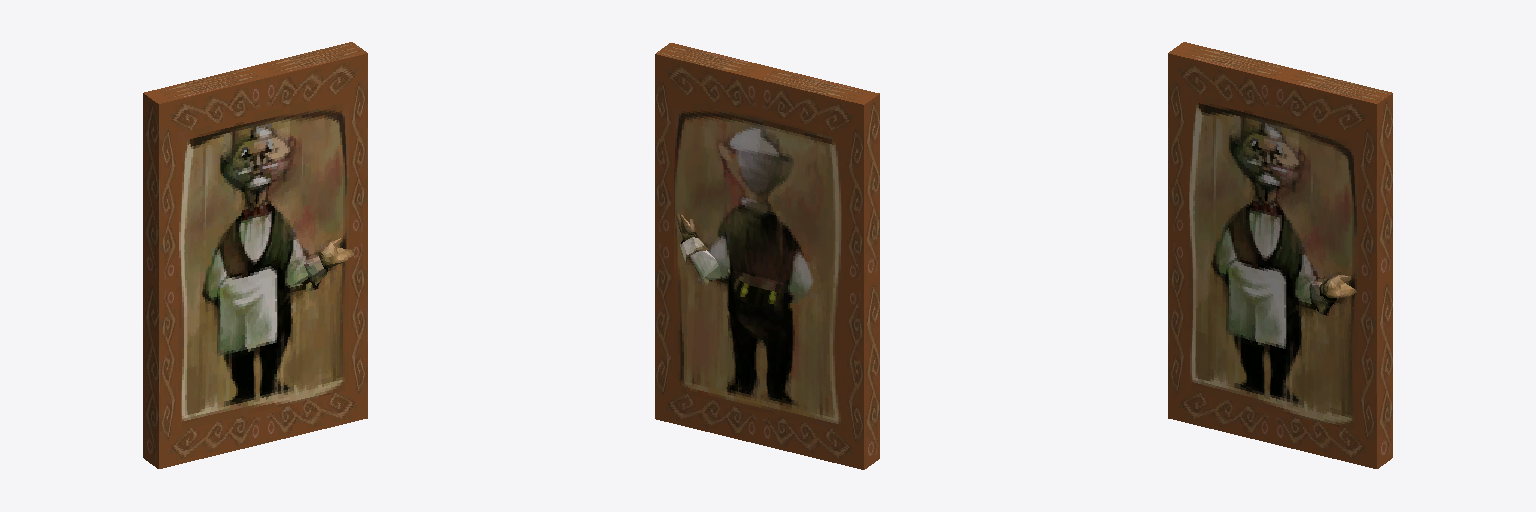
The picture shows the model from 3 angles: view 1: azimuth 30°, elevation 25°; view 2: azimuth 150°, elevation 25°; view 3: azimuth 330°, elevation 25°; orthographic projection.
Parts seen in each view (by area): view 1: door_cabana; view 2: door_cabana; view 3: door_cabana.
Part boxes in pixels (bbox=[...]): door_cabana: bbox=[143, 42, 367, 468]; door_cabana: bbox=[655, 43, 879, 469]; door_cabana: bbox=[1168, 42, 1392, 468].
Bounding box in the file's own units: 150 × 250 × 37.97.
1 materials, 1 textured.